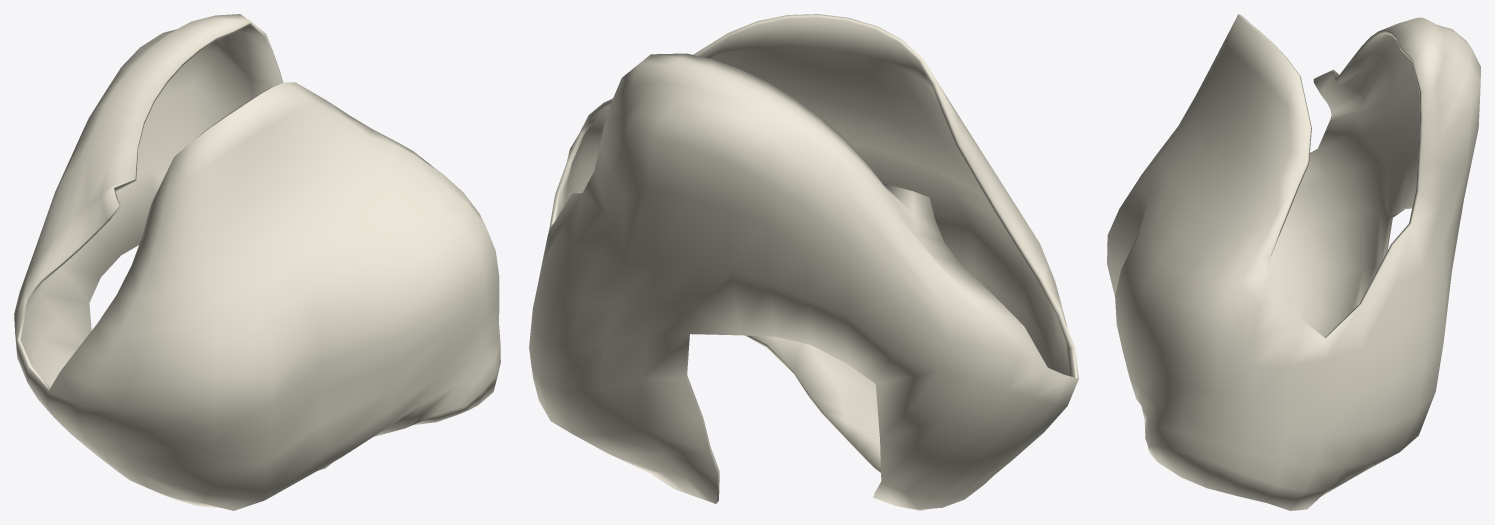
3 views of the same model, side by side, from view 1: azimuth 30°, elevation 25°; view 2: azimuth 150°, elevation 25°; view 3: azimuth 270°, elevation 25° (orthographic). The views are drawn at different scales.
Parts seen in each view (by area): view 1: ZA_20b7522d0045f2ae; view 2: ZA_20b7522d0045f2ae; view 3: ZA_20b7522d0045f2ae.
Part boxes in pixels (bbox=[...]): ZA_20b7522d0045f2ae: bbox=[14, 14, 500, 510]; ZA_20b7522d0045f2ae: bbox=[529, 14, 1078, 510]; ZA_20b7522d0045f2ae: bbox=[1107, 14, 1480, 510].
Bounding box in the file's own units: 0.0611 × 0.0532 × 0.0423.
